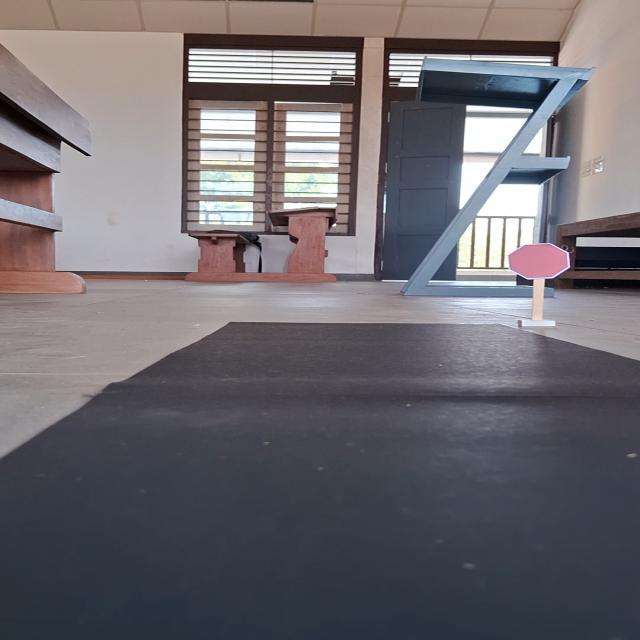Stop: (503, 242, 573, 280)
